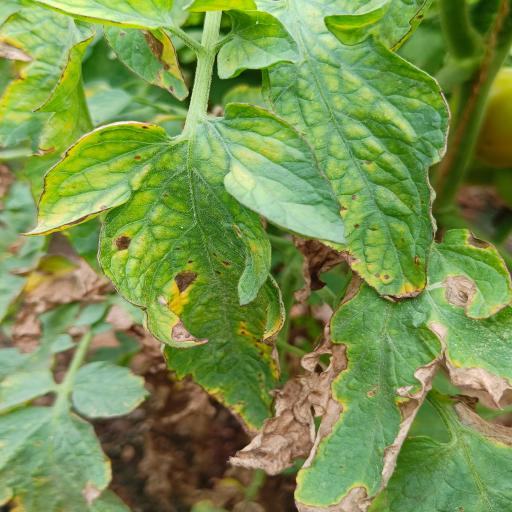disease_tomato: (20, 100, 356, 438), (285, 228, 512, 511)
